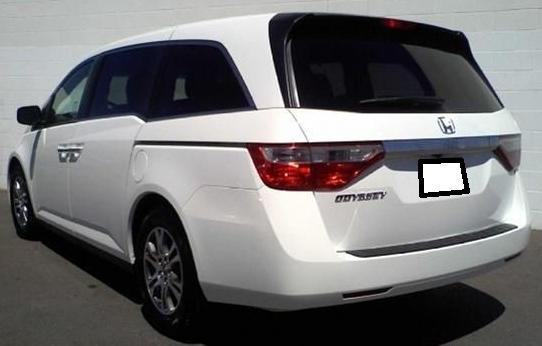back_view: (239, 128, 541, 269)
backlight: (233, 121, 385, 203)
side_glass: (29, 58, 167, 119)
